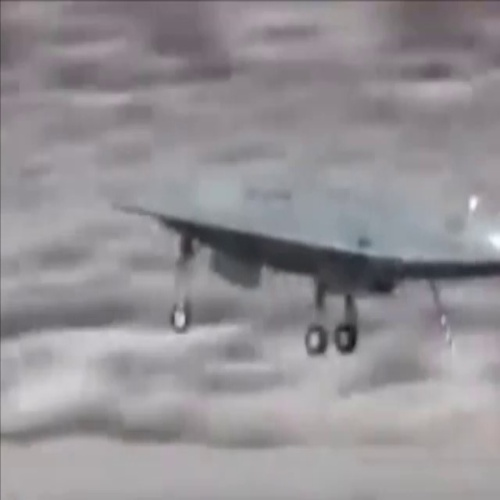uav1044: (101, 181, 497, 358)
